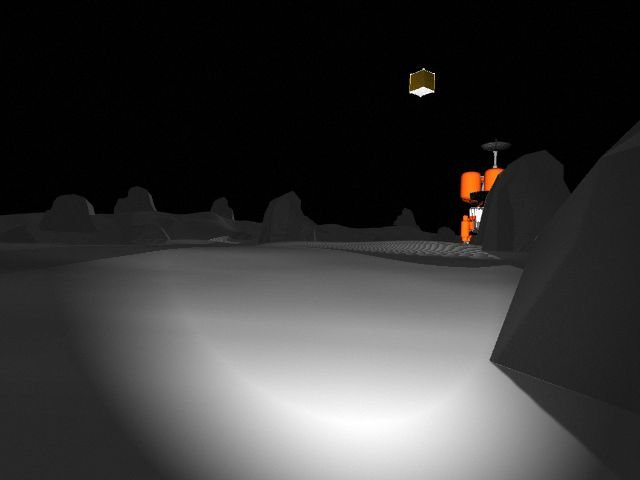cubesat: (403, 61, 440, 107)
